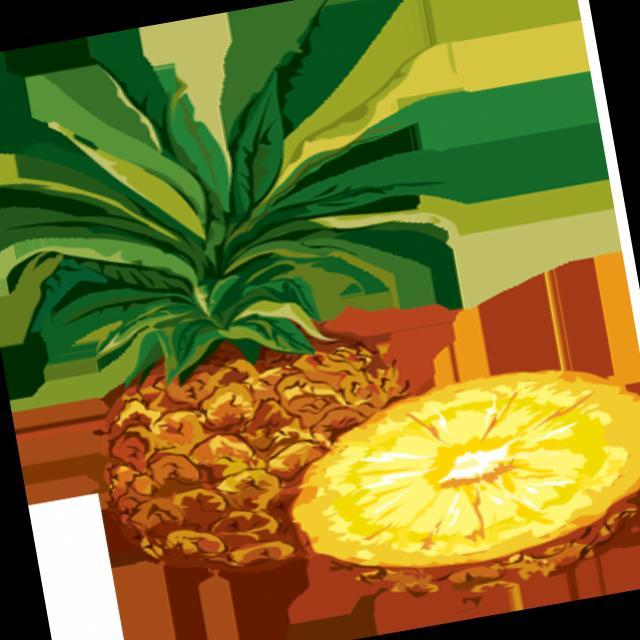PINEAPLE: (31, 49, 445, 584), (286, 322, 640, 624)
